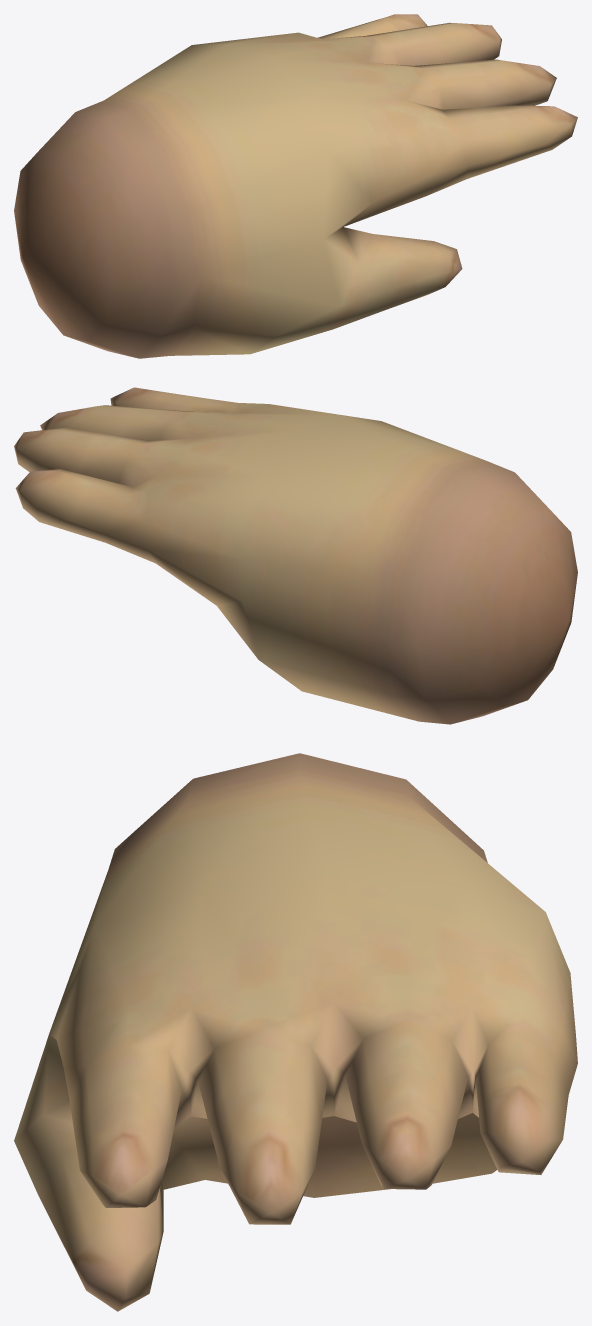
The model's file is rightHand.obj.
The picture shows the model from 3 angles, top to bottom: view 1: azimuth 30°, elevation 25°; view 2: azimuth 150°, elevation 25°; view 3: azimuth 270°, elevation 25°; orthographic projection. The views are drawn at different scales.
Parts seen in each view (by area): view 1: polygon0; view 2: polygon0; view 3: polygon0.
Part boxes in pixels (<box>): polygon0: <box>14,14,577,358</box>; polygon0: <box>14,387,577,724</box>; polygon0: <box>14,753,577,1311</box>.
Size of the model in its own units: 1.95 by 0.881 by 1.08.
Materials: 1 (1 with a texture image).
